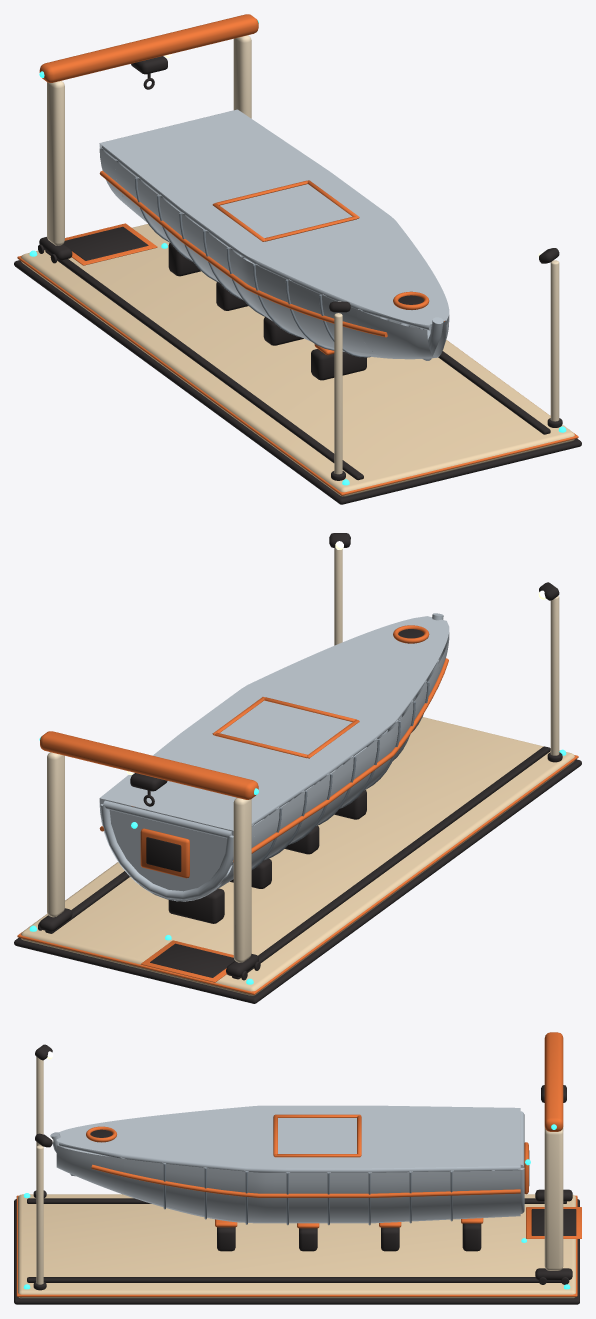
Rendered from hull-4.glb.
3 renders of one model, top to bottom at view 1: azimuth 30°, elevation 25°; view 2: azimuth 150°, elevation 25°; view 3: azimuth 270°, elevation 25°, orthographic. The views are drawn at different scales.
Visible parts, largest first — view 1: Cube.001, skin, Cube, Cube.002, Cube.023, pipe, pipe.030; view 2: Cube.001, skin, Cube, Cube.002, Cube.023, pipe, pipe.030; view 3: skin, Cube.001, Cube, Cube.002, Cube.023, pipe, pipe.030.
Part boxes in pixels (x1=…): Cube.001: x1=21, y1=224, x2=574, y2=496; skin: x1=99, y1=109, x2=449, y2=359; Cube: x1=14, y1=56, x2=581, y2=504; Cube.002: x1=17, y1=14, x2=578, y2=495; Cube.023: x1=47, y1=35, x2=559, y2=474; pipe: x1=101, y1=145, x2=443, y2=360; pipe.030: x1=135, y1=177, x2=410, y2=357; Cube.001: x1=21, y1=717, x2=574, y2=995; skin: x1=99, y1=616, x2=449, y2=901; Cube: x1=14, y1=533, x2=581, y2=1003; Cube.002: x1=17, y1=625, x2=578, y2=994; Cube.023: x1=47, y1=548, x2=559, y2=962; pipe: x1=100, y1=613, x2=443, y2=899; pipe.030: x1=177, y1=681, x2=429, y2=869; skin: x1=56, y1=1105, x2=520, y2=1223; Cube.001: x1=18, y1=1194, x2=575, y2=1298; Cube: x1=14, y1=1044, x2=579, y2=1304; Cube.002: x1=16, y1=1032, x2=581, y2=1296; Cube.023: x1=36, y1=1057, x2=563, y2=1284; pipe: x1=50, y1=1111, x2=524, y2=1213; pipe.030: x1=163, y1=1163, x2=452, y2=1225.
Size of the model in its own units: 1.3 by 1.06 by 3.05.
